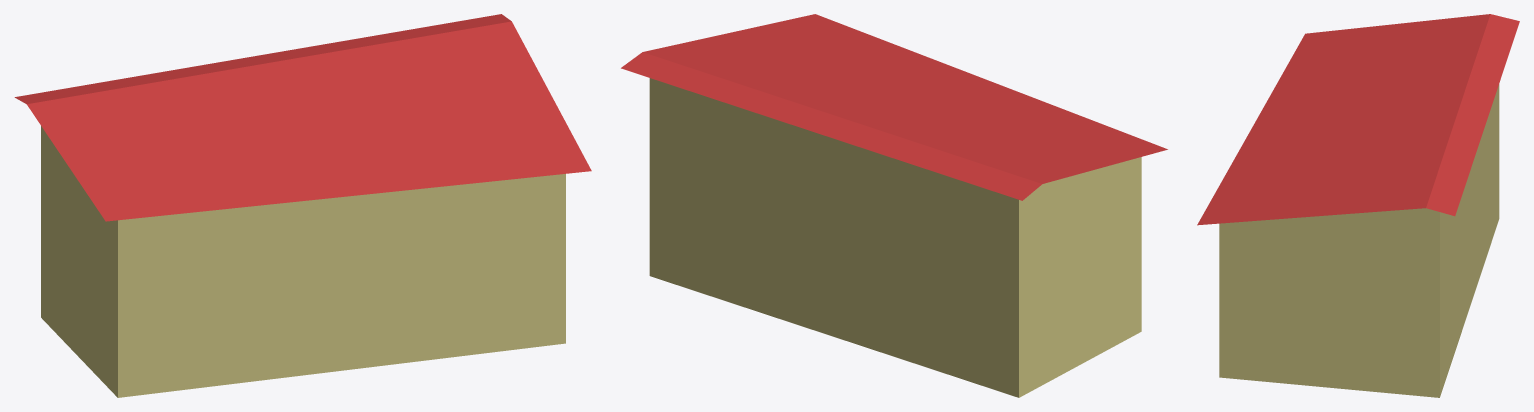
3 renders of one model, left to right at view 1: azimuth 30°, elevation 25°; view 2: azimuth 150°, elevation 25°; view 3: azimuth 270°, elevation 25°, orthographic. The views are drawn at different scales.
Bounding box in the file's own units: 27.01 × 17.73 × 11.9.
